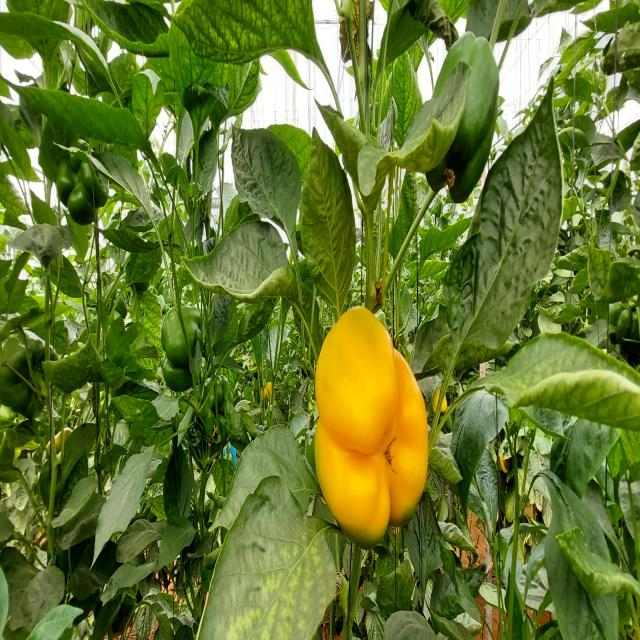Yellow-Ready-to-Harvest: (308, 306, 434, 546)
